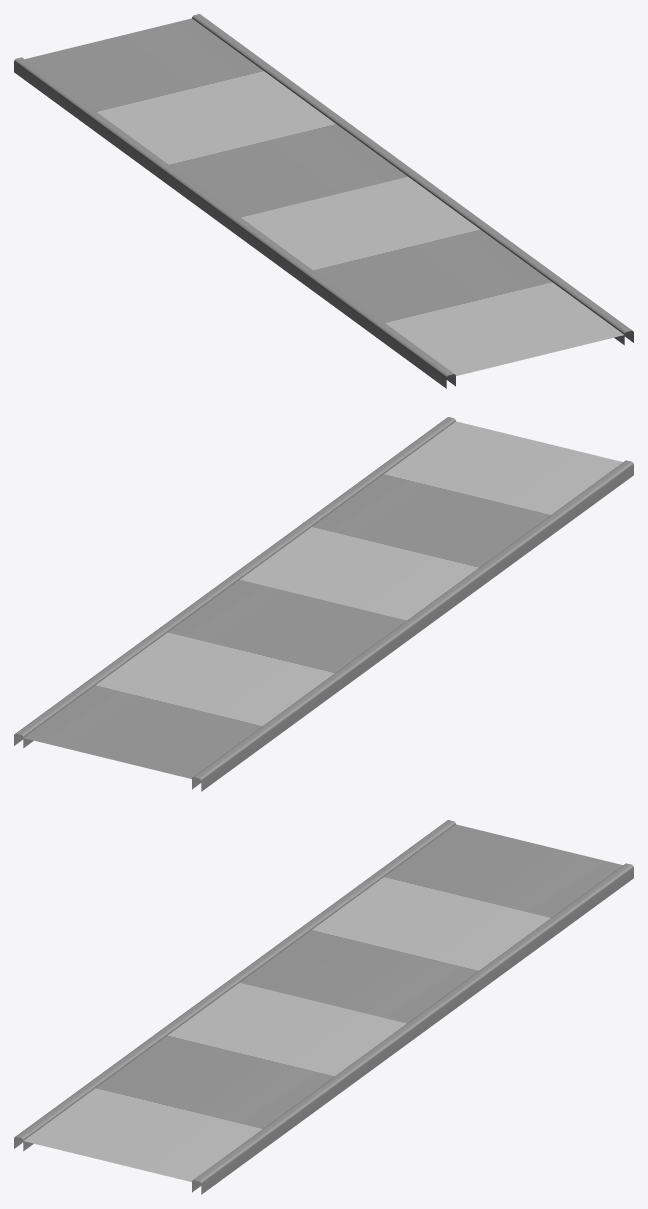
The model's file is road1_01 (6).fbx.
3 renders of one model, top to bottom at view 1: azimuth 30°, elevation 25°; view 2: azimuth 150°, elevation 25°; view 3: azimuth 330°, elevation 25°, orthographic.
Parts seen in each view (by area): view 1: Road1_01; view 2: Road1_01; view 3: Road1_01.
Part boxes in pixels (x1,y1,x2,y2): Road1_01: (14,14,633,388); Road1_01: (14,417,633,791); Road1_01: (14,820,633,1194).
Size of the model in its own units: 600 by 40 by 2400.
Materials: 1 (1 with a texture image).
